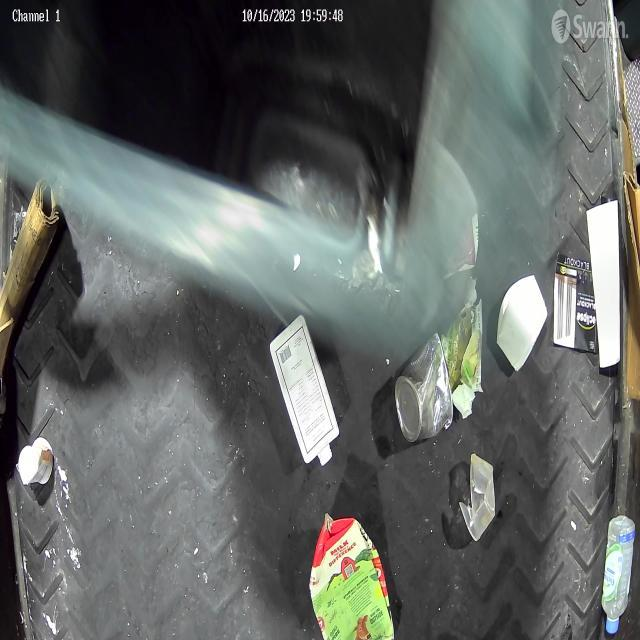can: (394, 330, 454, 442)
non_white_jug: (310, 513, 394, 640)
plastic_bottle: (602, 512, 636, 636)
